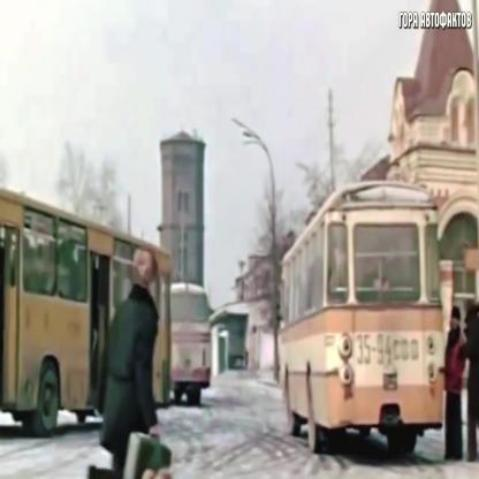bus: (277, 181, 448, 448), (0, 182, 177, 419), (157, 275, 218, 405)
